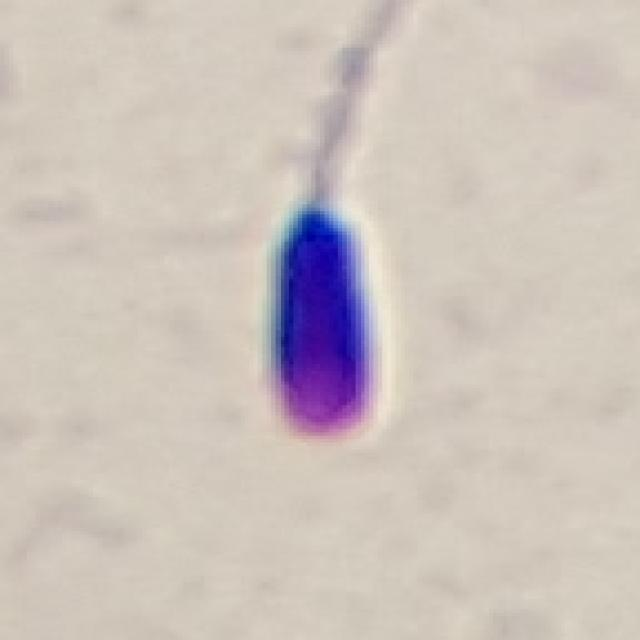abnormal sperm: (260, 75, 386, 442)
